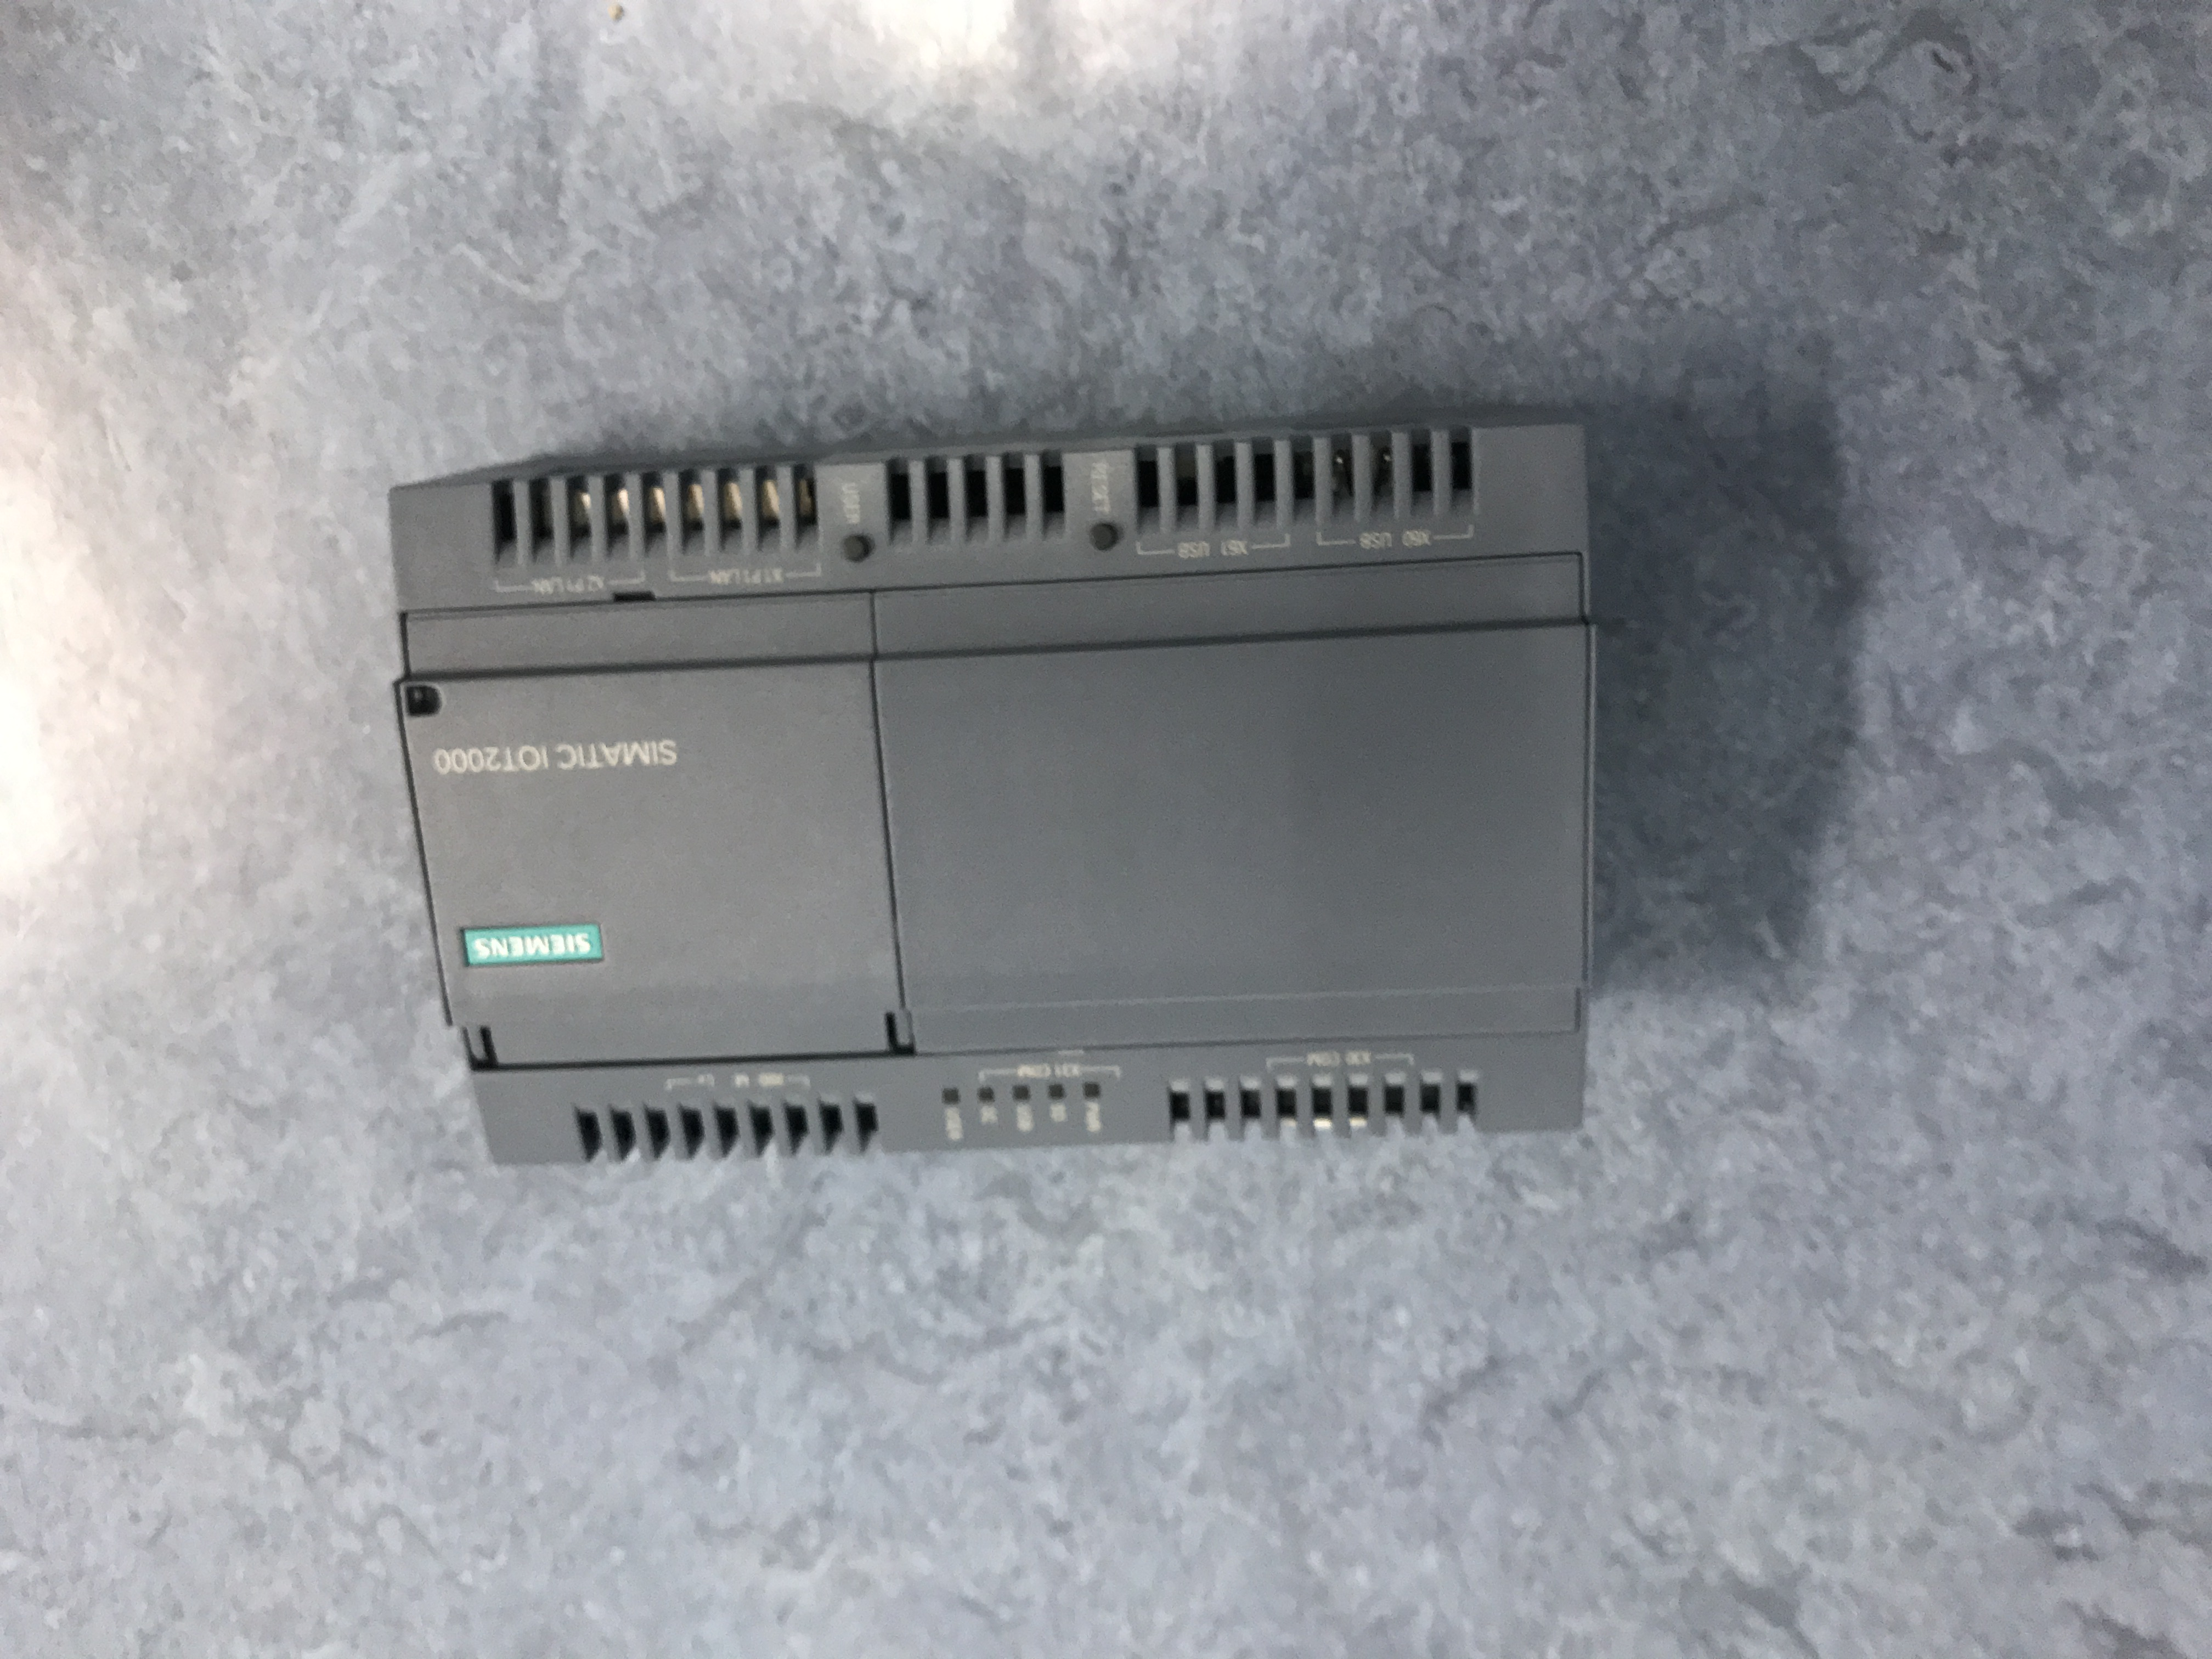device: (390, 413, 1601, 1169)
